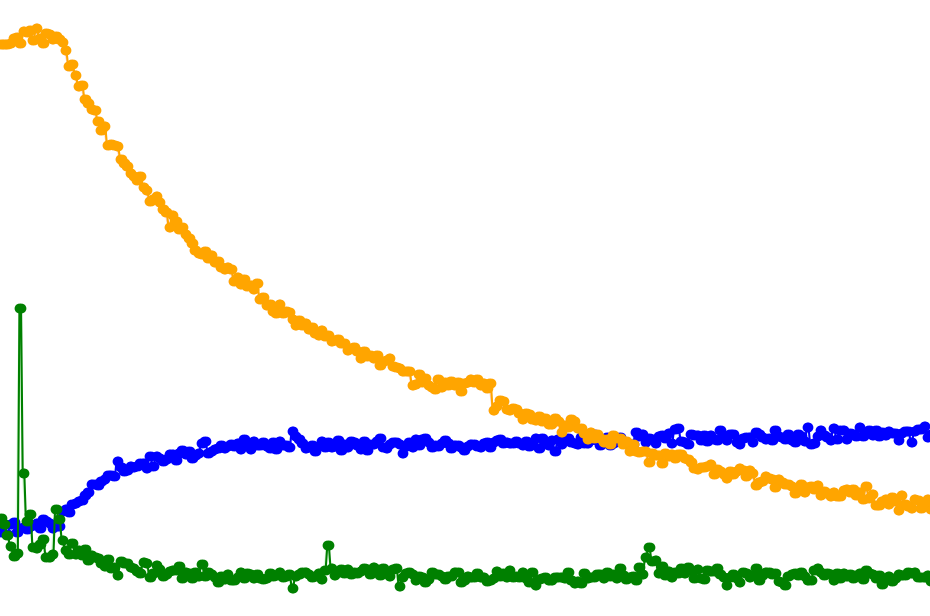CO2 Problem: (77, 0, 194, 616)
Condensation (CO2): (505, 0, 738, 616), (194, 0, 311, 616)
High CO2: (816, 0, 930, 616)
Normal: (349, 0, 738, 616), (194, 0, 505, 616), (505, 0, 816, 616), (194, 0, 466, 616), (77, 0, 311, 616), (0, 0, 194, 616), (738, 0, 930, 616), (77, 0, 194, 616), (816, 0, 930, 616), (0, 0, 77, 616)
